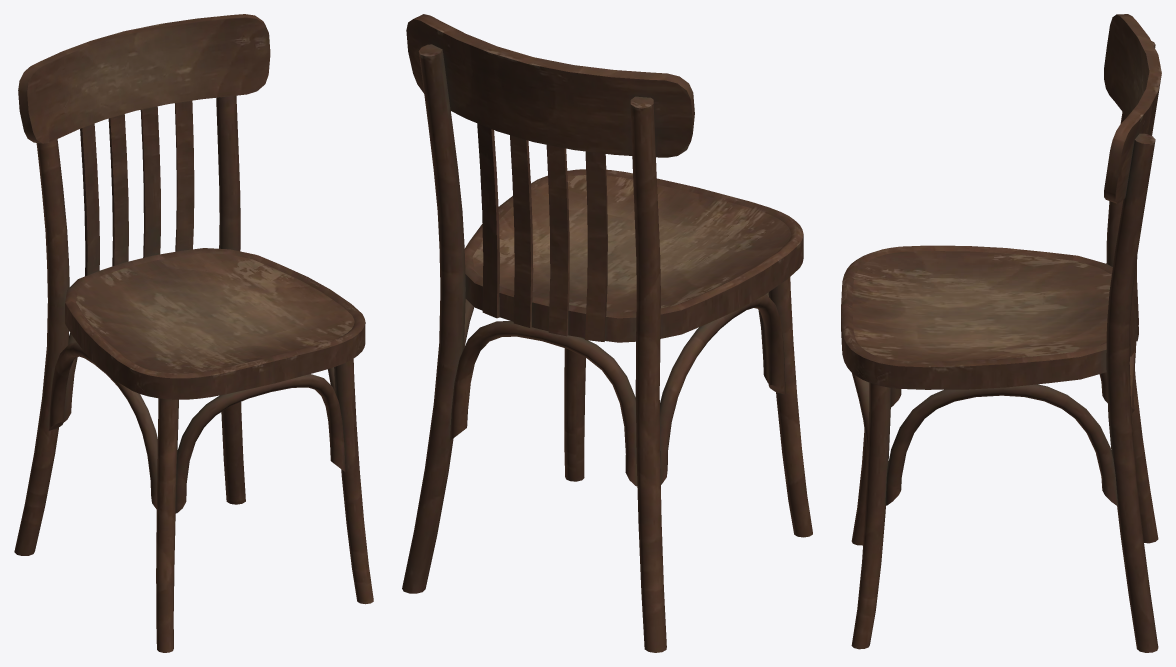
Rendered from chair.glb.
3 views of the same model, side by side, from view 1: azimuth 30°, elevation 25°; view 2: azimuth 150°, elevation 25°; view 3: azimuth 270°, elevation 25° (orthographic). The views are drawn at different scales.
Parts seen in each view (by area): view 1: soviet_chair_0; view 2: soviet_chair_0; view 3: soviet_chair_0.
Boxes of the visible parts, x1=… form: soviet_chair_0: x1=14, y1=14, x2=373, y2=652; soviet_chair_0: x1=402, y1=14, x2=812, y2=652; soviet_chair_0: x1=841, y1=14, x2=1161, y2=652.
Size of the model in its own units: 0.4624 by 0.8741 by 0.4858.
Materials: 1 (1 with a texture image).
